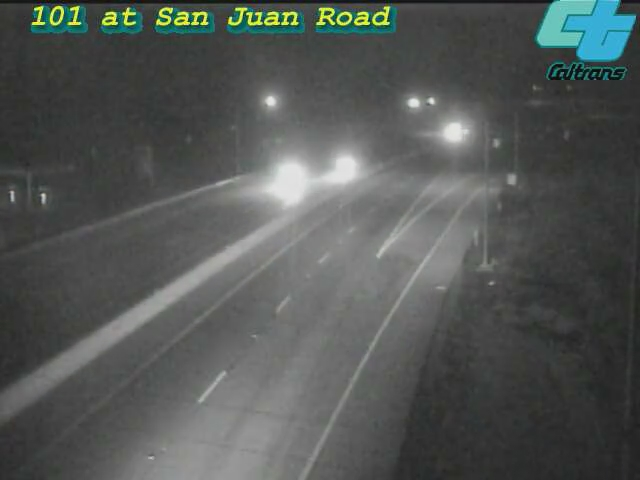vehicle: (248, 140, 328, 220), (301, 127, 381, 207), (429, 107, 479, 157)
